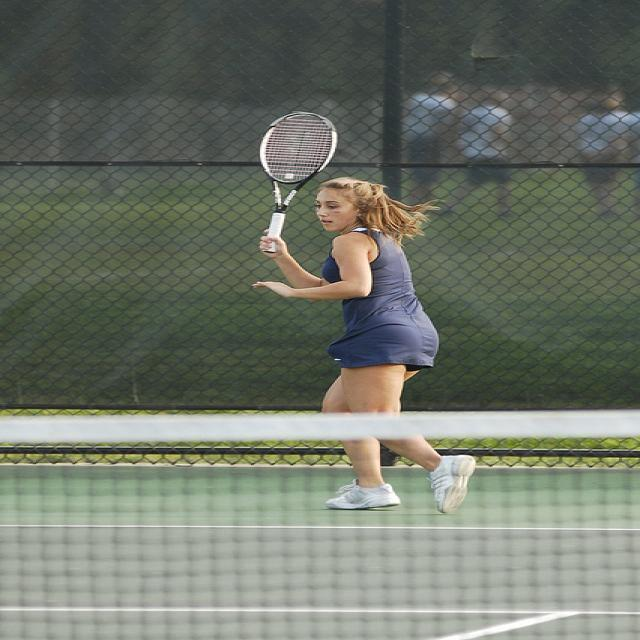non-dog: (252, 178, 477, 517)
